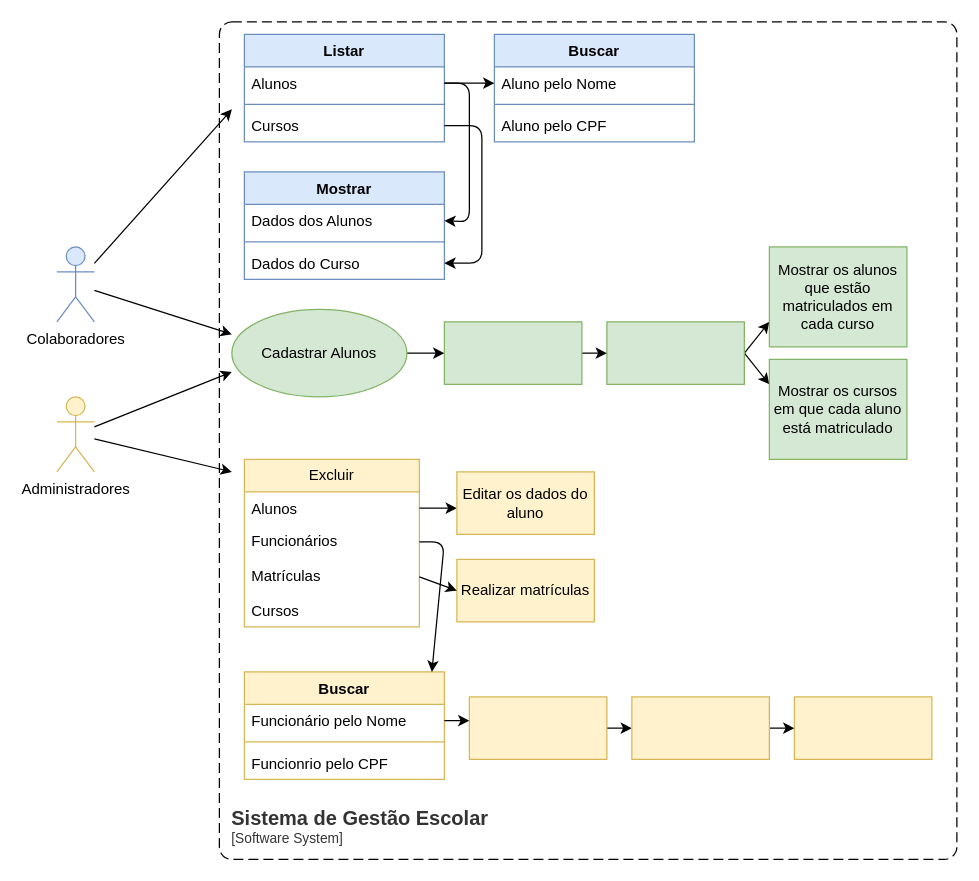
The diagram is 979 pixels wide and 881 high, and some of its shapes have lost their labels. The centre of each missing label's shape, as x and y in pixels:
"Cadastrar Cursos" goes at (x=512, y=352).
"Cadastrar Funcionários" goes at (x=537, y=727).
"Editar os dados do funcionários" goes at (x=862, y=727).
"Login de usúarios" goes at (x=675, y=352).
"Mostrar dados dos funcionários" goes at (x=700, y=727).
